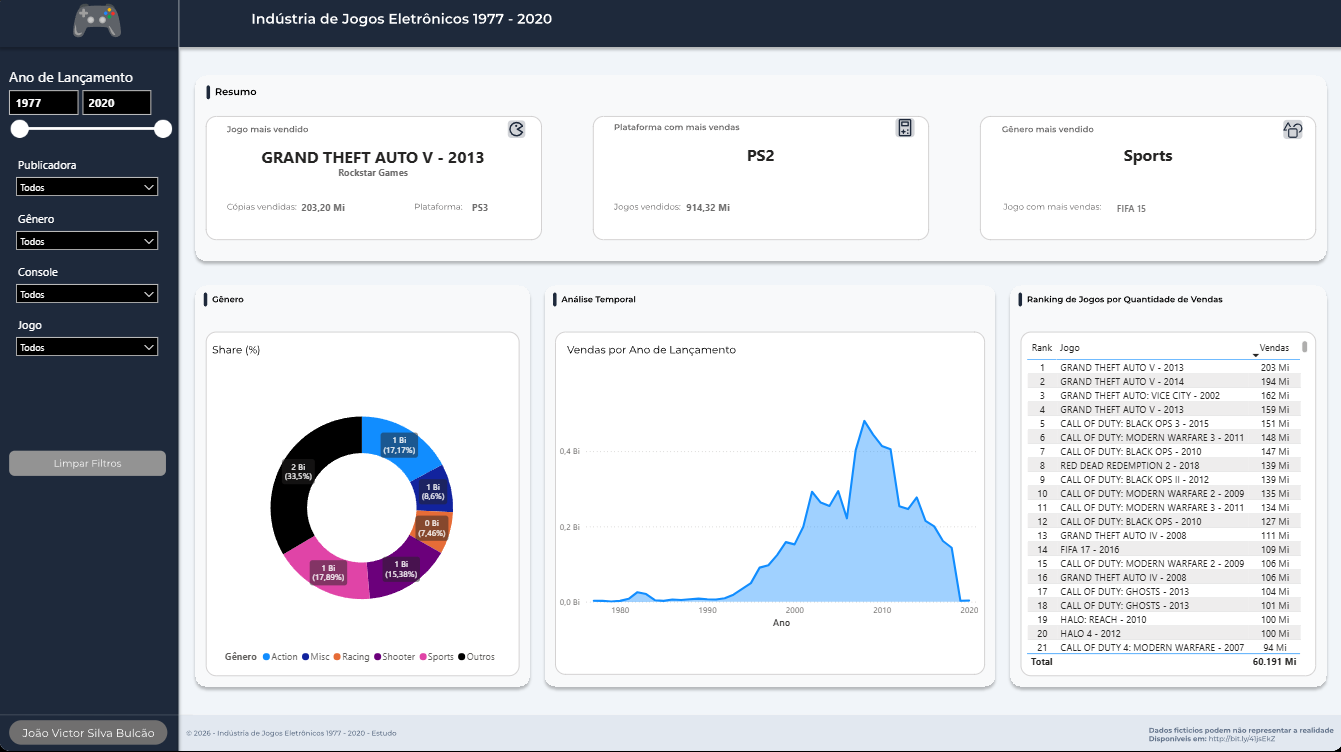

This screenshot's page, from the dashboard's own definition file:
{"tool":"powerbi","page":{"name":"Relatôrio","canvas":[1919,1080],"ordinal":0},"visuals":[{"type":"card","fields":{"Values":["Min((TOP1) Game.TITLE_YEAR)"]},"box":[294.5,191,480,77],"z":0},{"type":"card","fields":{"Values":["Min((TOP1) Game.console)"]},"box":[660.5,288.5,55,25.5],"z":1000},{"type":"card","fields":{"Values":["Medidas.Console Líder"]},"box":[849,189,479,76],"z":2000},{"type":"card","fields":{"Values":["Min((TOP1) Game.publisher)"]},"box":[294.5,231,480,44],"z":3000},{"type":"card","fields":{"Values":["Medidas.Vendas do Líder"]},"box":[972,288.5,83,28],"z":4000},{"type":"card","fields":{"Values":["Sum((Rank) Game.Vendas)"]},"box":[424.5,288.5,77.5,25],"z":5000},{"type":"donutChart","fields":{"Y":["Medidas.Vendas Top 3 Dinamico"],"Category":["Tabela Suporte Genero.genre"]},"box":[302.7,527.3,430.9,434.5],"z":6000},{"type":"slicer","fields":{"Values":["dDatas.release_date.Variation.Hierarquia de datas.Ano"]},"box":[1,94.3,254.4,157.8],"z":7000},{"type":"card","fields":{"Values":["Medidas.Genre Líder"]},"box":[1401.5,188.5,480,77],"z":8000},{"type":"cardVisual","fields":{"Data":["Medidas.Jogo do Genero Campeao"]},"box":[1573.5,268,272.5,64],"z":9000},{"type":"lineChart","fields":{"Category":["dDatas.release_date.Variation.Hierarquia de datas.Ano"],"Y":["Medidas.QuantidadeVendas"]},"box":[796.4,581.8,608.2,325.5],"z":10000},{"type":"slicer","fields":{"Values":["dPublisher.publisher"]},"box":[14.6,224.8,222.9,72.1],"z":11000},{"type":"slicer","fields":{"Values":["dGenre.genre"]},"box":[14.6,301,222.9,72.1],"z":12000},{"type":"slicer","fields":{"Values":["dConsole.console"]},"box":[14.6,377.2,222.9,72.1],"z":13000},{"type":"slicer","fields":{"Values":["dTitle.upper_title"]},"box":[14.6,453.4,222.9,72.1],"z":14000},{"type":"actionButton","box":[17.1,650,220,34.3],"z":15000},{"type":"actionButton","box":[14.3,1035.7,227.1,34.3],"z":16000},{"type":"actionButton","box":[1641.4,1052.9,194.3,17.1],"z":17000},{"type":"tableEx","fields":{"Values":["(Rank) Game.Rank","(Rank) Game.TITLE_YEAR","Sum((Rank) Game.Vendas)"]},"box":[1463.3,485,411.7,476.7],"z":18000}]}

Visuals, with their boxes in screenshot pixels (x1, y1, x2, y2), scaled from the page's 1919x1080 canvas onto the 1341x752 screenshot:
card - Min((TOP1) Game.TITLE_YEAR): box(206, 133, 541, 187)
card - Min((TOP1) Game.console): box(462, 201, 500, 219)
card - Medidas.Console Líder: box(593, 132, 928, 185)
card - Min((TOP1) Game.publisher): box(206, 161, 541, 191)
card - Medidas.Vendas do Líder: box(679, 201, 737, 220)
card - Sum((Rank) Game.Vendas): box(297, 201, 351, 218)
donutChart - Medidas.Vendas Top 3 Dinamico x Tabela Suporte Genero.genre: box(212, 367, 513, 670)
slicer - dDatas.release_date.Variation.Hierarquia de datas.Ano: box(1, 66, 178, 176)
card - Medidas.Genre Líder: box(979, 131, 1315, 185)
cardVisual - Medidas.Jogo do Genero Campeao: box(1100, 187, 1290, 231)
lineChart - dDatas.release_date.Variation.Hierarquia de datas.Ano x Medidas.QuantidadeVendas: box(557, 405, 982, 632)
slicer - dPublisher.publisher: box(10, 157, 166, 207)
slicer - dGenre.genre: box(10, 210, 166, 260)
slicer - dConsole.console: box(10, 263, 166, 313)
slicer - dTitle.upper_title: box(10, 316, 166, 366)
actionButton: box(12, 453, 166, 476)
actionButton: box(10, 721, 169, 745)
actionButton: box(1147, 733, 1283, 745)
tableEx - (Rank) Game.Rank x (Rank) Game.TITLE_YEAR: box(1023, 338, 1310, 670)
